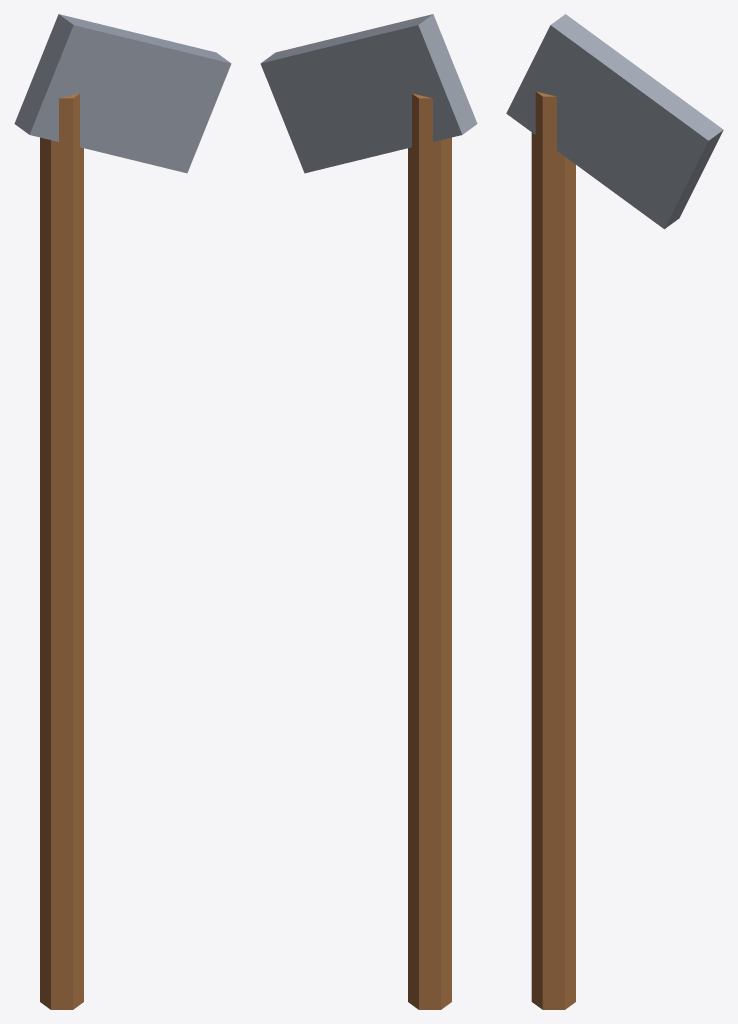
Rendered from tool_hoe.glb.
The picture shows the model from 3 angles, left to right: view 1: azimuth 30°, elevation 25°; view 2: azimuth 150°, elevation 25°; view 3: azimuth 330°, elevation 25°; orthographic projection.
Parts seen in each view (by area): view 1: tool_hoe; view 2: tool_hoe; view 3: tool_hoe.
Part boxes in pixels (left/top/right/bottom): tool_hoe: left=14, top=14, right=231, bottom=1009; tool_hoe: left=260, top=14, right=477, bottom=1009; tool_hoe: left=506, top=14, right=723, bottom=1009.
Bounding box in the file's own units: 0.232 × 1.08 × 0.044.
